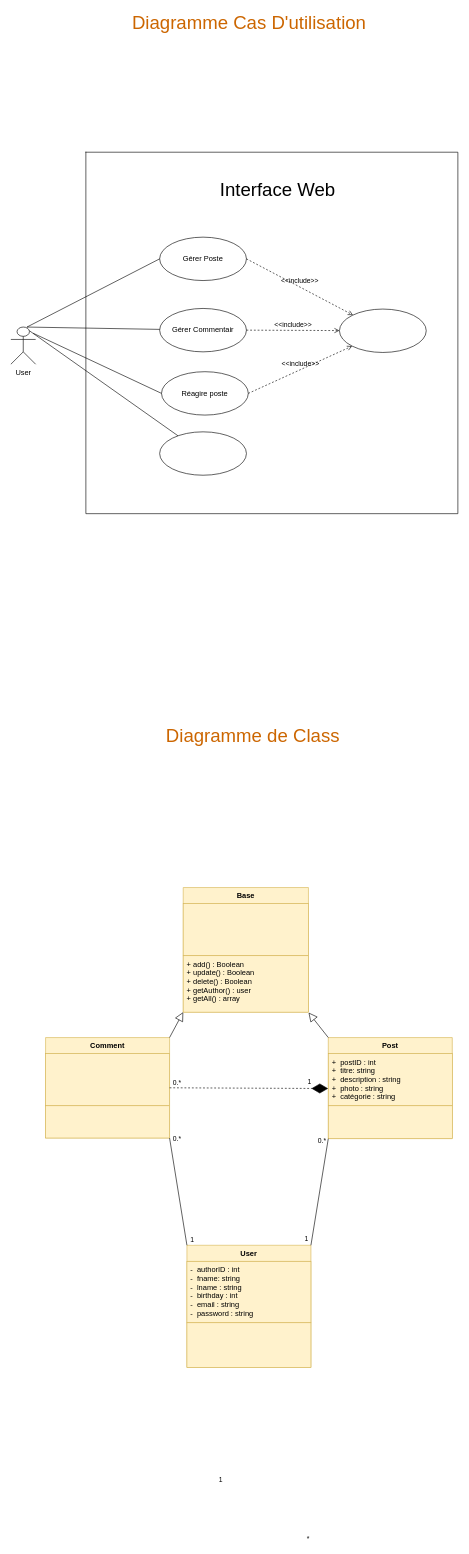
Some shapes in this 469 by 1554 pixel diagram are drawn without their labels. The centre of each missing label's shape, as x and y in pixels:
+ commentID : int + content: string: the point at 107,1079
+ login() : Boolean + register() : Boolean: the point at 248,1344
Créer Compte: the point at 202,453
S'authentifier: the point at 382,330
